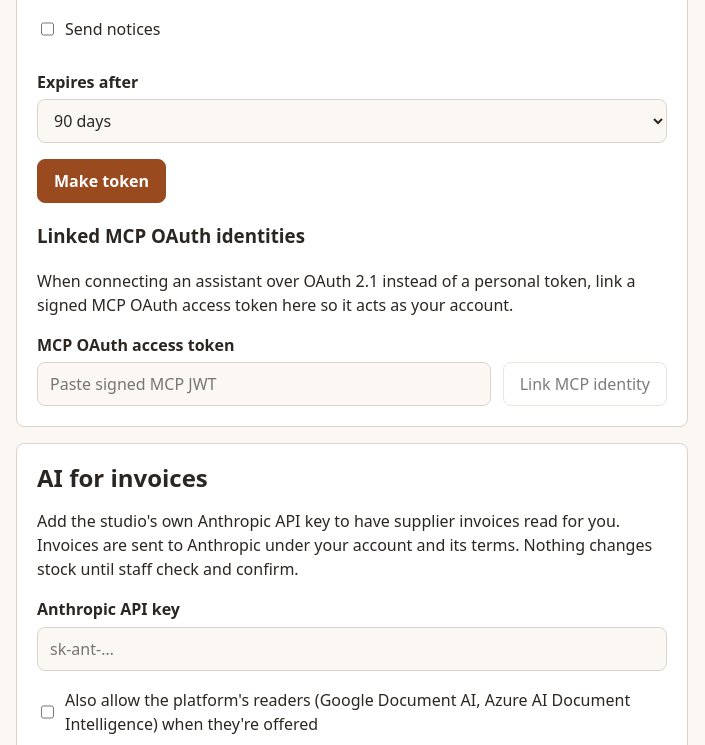
API access › links and unlinks an MCP OAuth identity
(page scrolled)
Type "eyJhbGciOiJSUzI1NiJ9.payload.sig" into the password field labelled "MCP OAuth access token".
click(264, 384); type("eyJhbGciOiJSUzI1NiJ9.payload.sig")  # box [37,362,491,406]
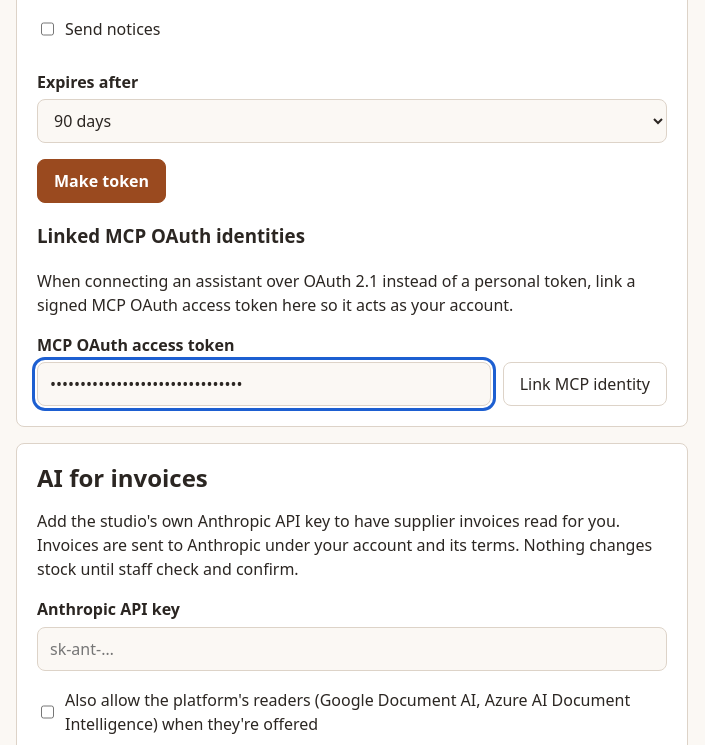
Click the button "Link MCP identity".
click(585, 384)  # box [503,362,667,406]
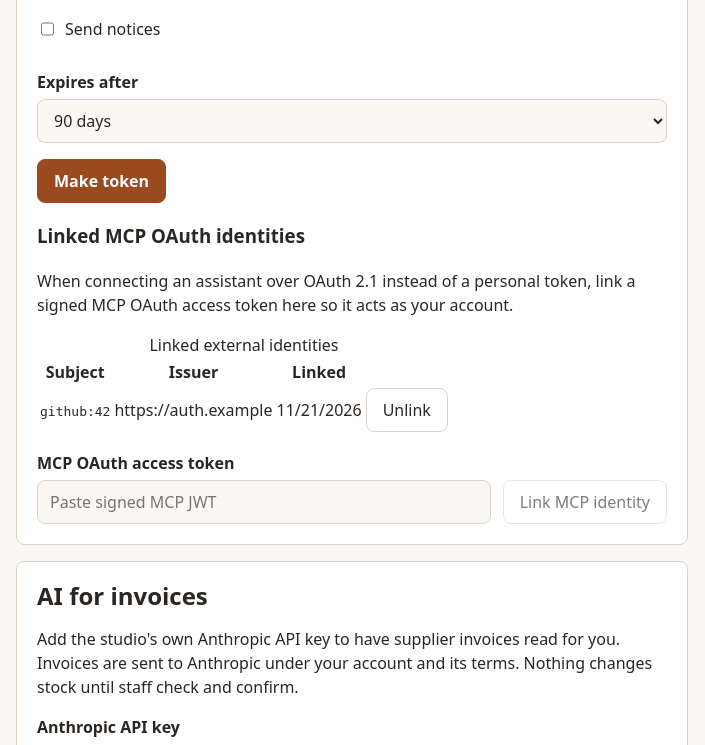
expect the text "github:42" is shown: met, box [40,404,110,419]
Click the button "Unlink".
click(407, 410)  # box [366,388,448,432]
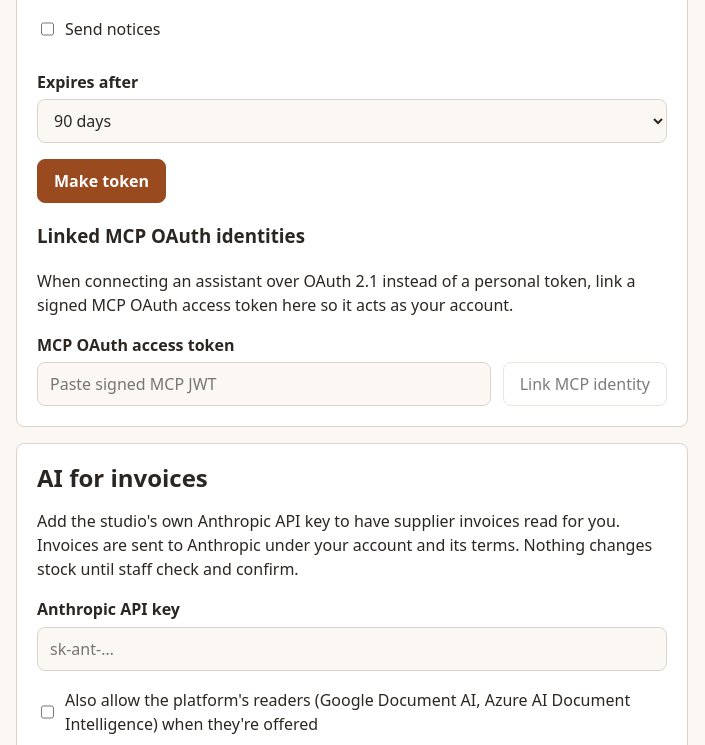
expect the text "github:42" is gone: met
